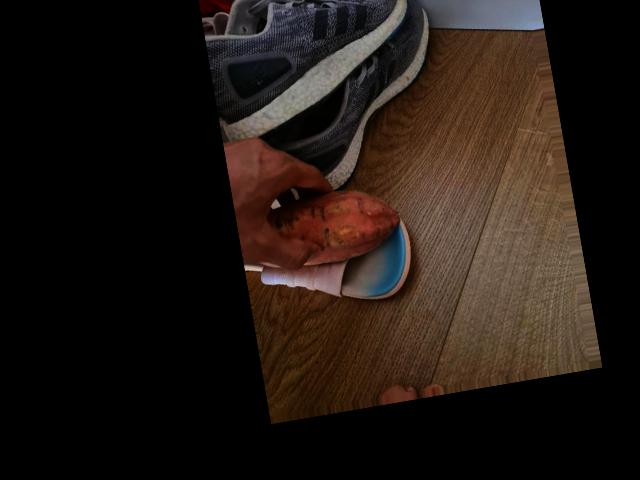sweet_potato: (267, 182, 407, 271)
